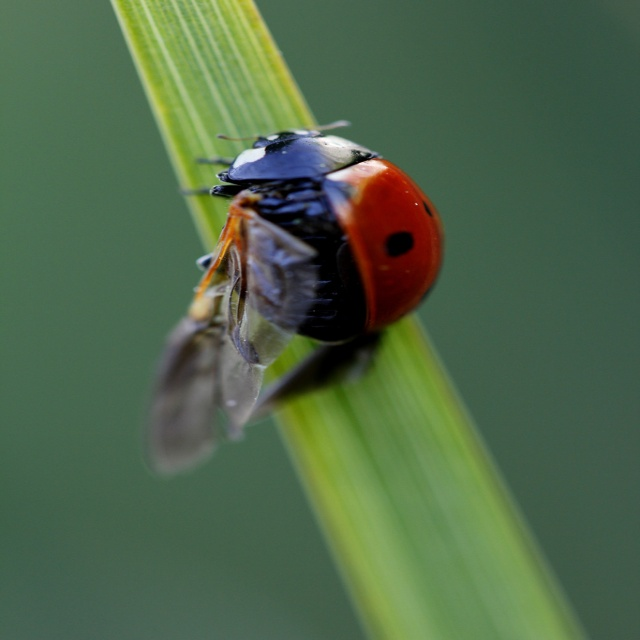Ladybug: (142, 120, 445, 482)
